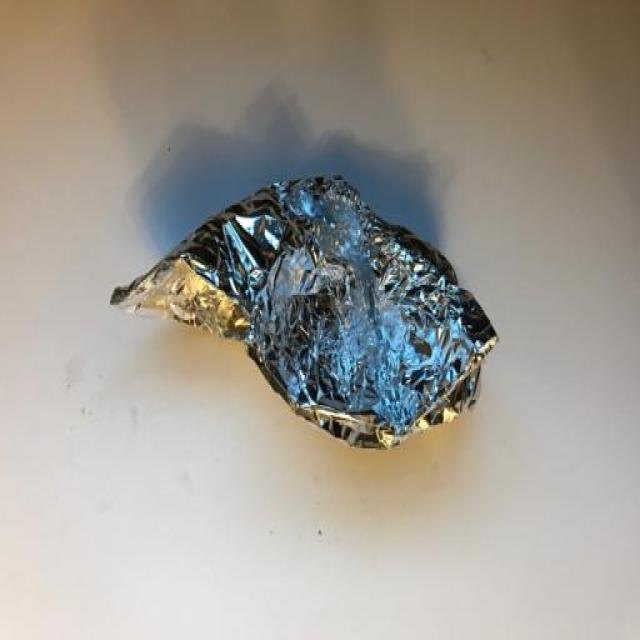metal: (109, 170, 499, 450)
